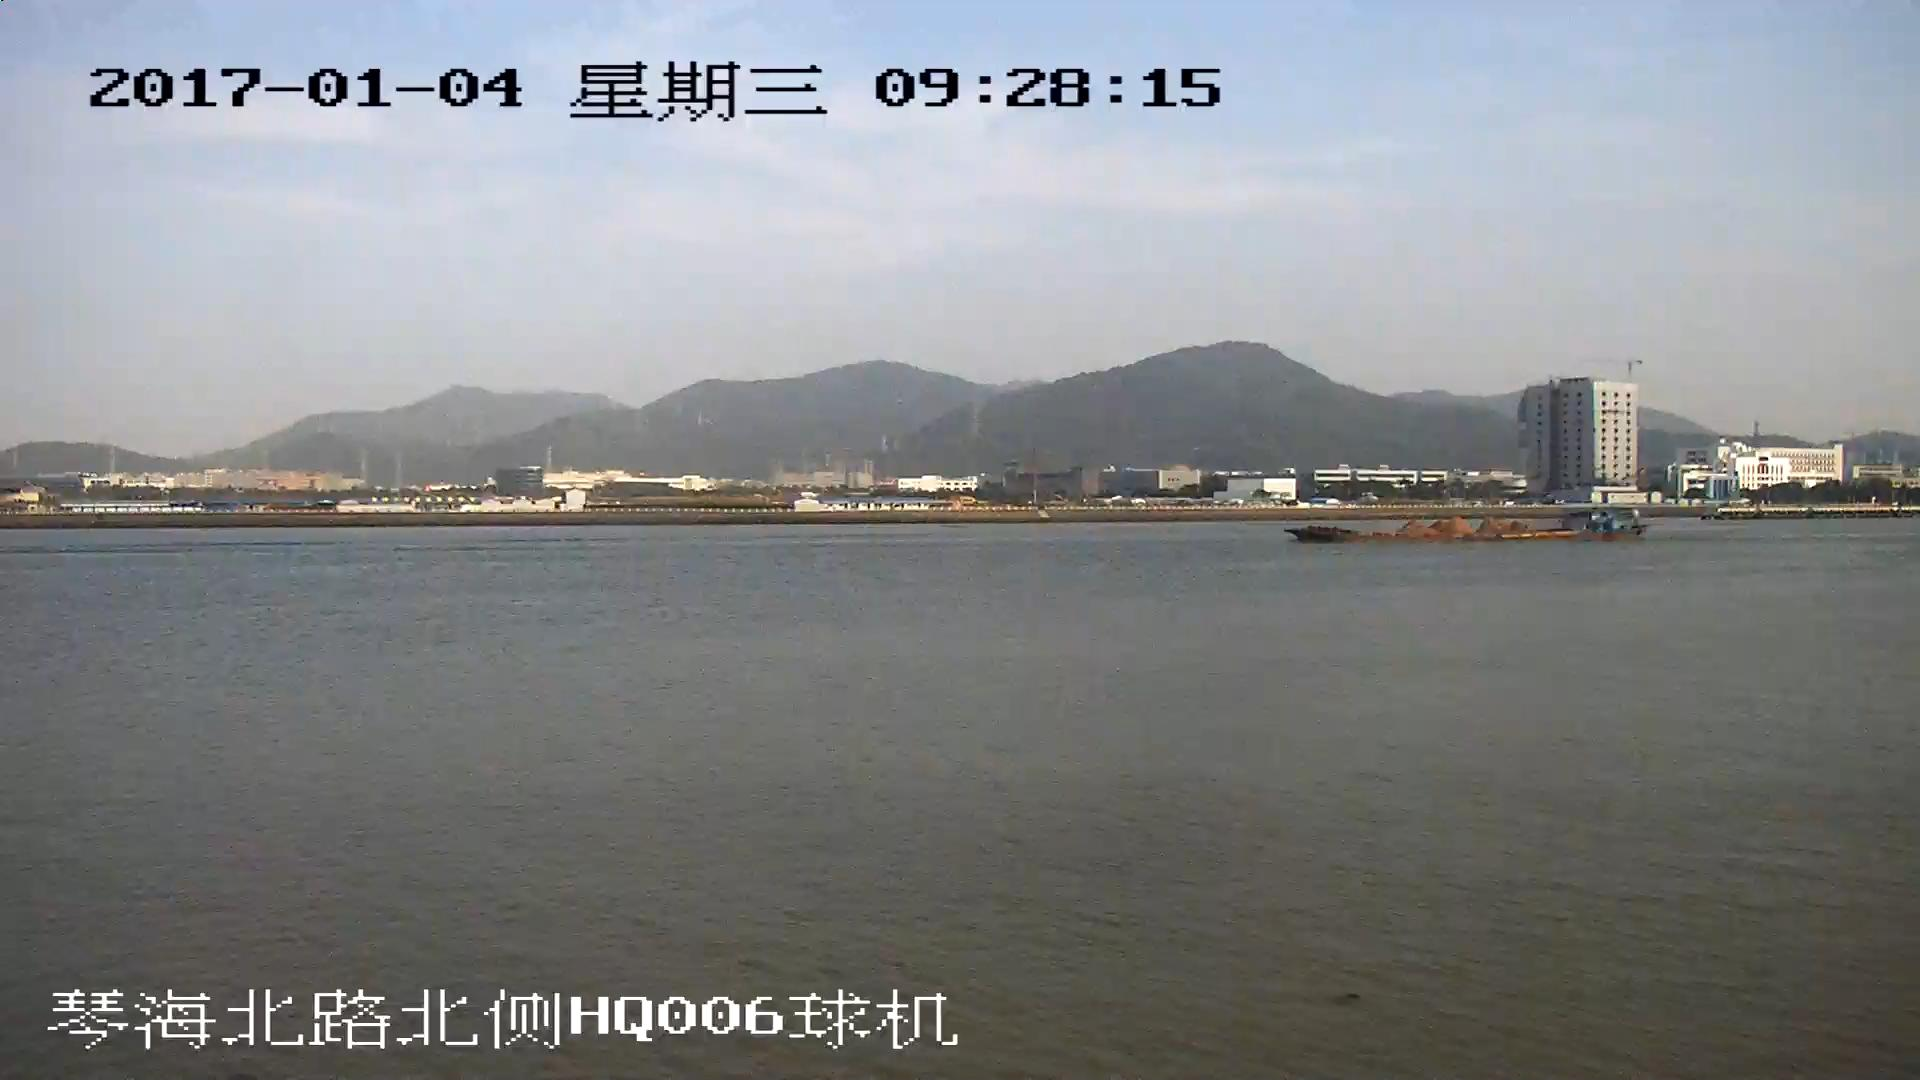ore carrier: (1288, 509, 1648, 541)
